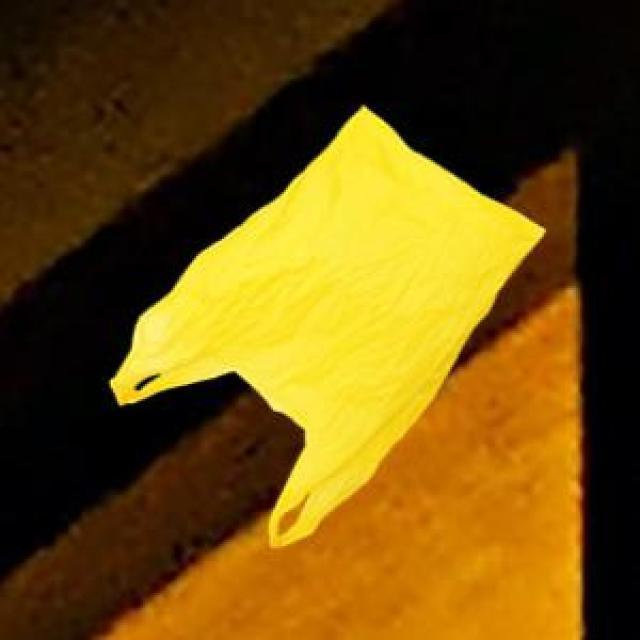Bolsa-de-nilon: (110, 106, 544, 546)
